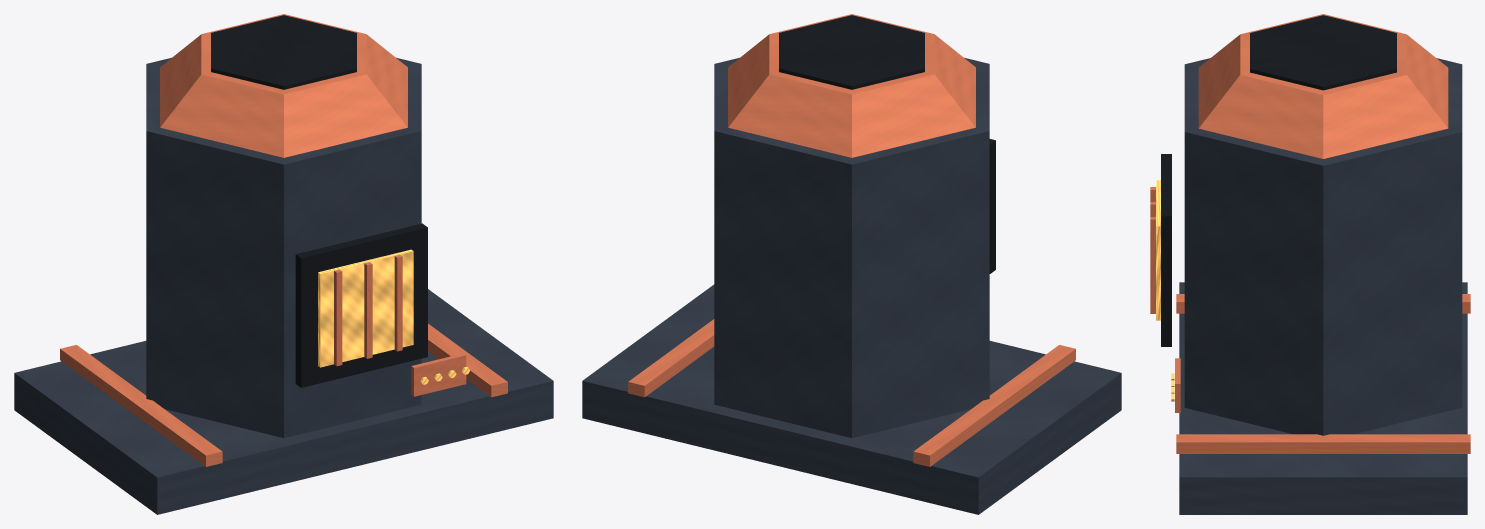
The model's file is atlas100-s026-a01.glb.
The picture shows the model from 3 angles, left to right: view 1: azimuth 30°, elevation 25°; view 2: azimuth 150°, elevation 25°; view 3: azimuth 270°, elevation 25°; orthographic projection.
Parts seen in each view (by area): view 1: atlas100-s026-a01:part-003, atlas100-s026-a01:part-000, atlas100-s026-a01:part-004, atlas100-s026-a01:part-006, atlas100-s026-a01:part-005, atlas100-s026-a01:part-007, atlas100-s026-a01:part-001, atlas100-s026-a01:part-002, atlas100-s026-a01:part-011, atlas100-s026-a01:part-008, atlas100-s026-a01:part-010, atlas100-s026-a01:part-009; view 2: atlas100-s026-a01:part-003, atlas100-s026-a01:part-000, atlas100-s026-a01:part-004, atlas100-s026-a01:part-005, atlas100-s026-a01:part-001, atlas100-s026-a01:part-002, atlas100-s026-a01:part-006; view 3: atlas100-s026-a01:part-003, atlas100-s026-a01:part-000, atlas100-s026-a01:part-004, atlas100-s026-a01:part-005, atlas100-s026-a01:part-002, atlas100-s026-a01:part-006, atlas100-s026-a01:part-007, atlas100-s026-a01:part-010.
Boxes of the visible parts, x1,y1,x2,y2 form: atlas100-s026-a01:part-003: [146, 57, 421, 437]; atlas100-s026-a01:part-000: [14, 289, 553, 514]; atlas100-s026-a01:part-004: [160, 14, 407, 157]; atlas100-s026-a01:part-006: [295, 223, 427, 387]; atlas100-s026-a01:part-005: [211, 15, 356, 89]; atlas100-s026-a01:part-007: [318, 249, 413, 367]; atlas100-s026-a01:part-001: [60, 345, 222, 466]; atlas100-s026-a01:part-002: [428, 323, 507, 397]; atlas100-s026-a01:part-011: [411, 353, 466, 396]; atlas100-s026-a01:part-008: [334, 269, 342, 366]; atlas100-s026-a01:part-010: [394, 254, 402, 351]; atlas100-s026-a01:part-009: [364, 262, 372, 358]; atlas100-s026-a01:part-003: [714, 57, 989, 437]; atlas100-s026-a01:part-000: [582, 284, 1121, 514]; atlas100-s026-a01:part-004: [728, 14, 975, 157]; atlas100-s026-a01:part-005: [779, 15, 924, 89]; atlas100-s026-a01:part-001: [913, 345, 1075, 466]; atlas100-s026-a01:part-002: [628, 319, 714, 397]; atlas100-s026-a01:part-006: [989, 139, 995, 273]; atlas100-s026-a01:part-003: [1184, 58, 1462, 435]; atlas100-s026-a01:part-000: [1179, 282, 1467, 514]; atlas100-s026-a01:part-004: [1198, 14, 1448, 158]; atlas100-s026-a01:part-005: [1250, 15, 1396, 90]; atlas100-s026-a01:part-002: [1176, 434, 1470, 453]; atlas100-s026-a01:part-006: [1161, 154, 1171, 346]; atlas100-s026-a01:part-007: [1156, 180, 1160, 320]; atlas100-s026-a01:part-010: [1150, 217, 1155, 313].
Size of the model in its own units: 2.88 by 2.53 by 2.
Materials: 4 (4 with a texture image).
